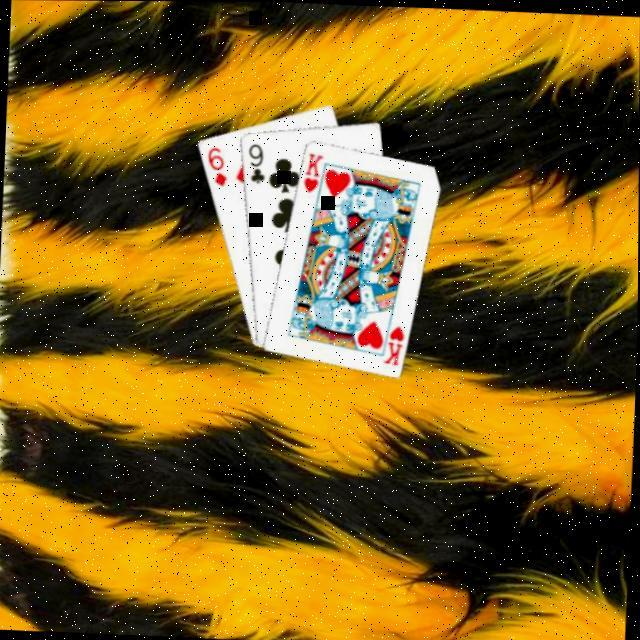6D: (202, 144, 230, 190)
9C: (242, 140, 268, 187)
KH: (379, 322, 407, 368), (298, 149, 324, 196)
